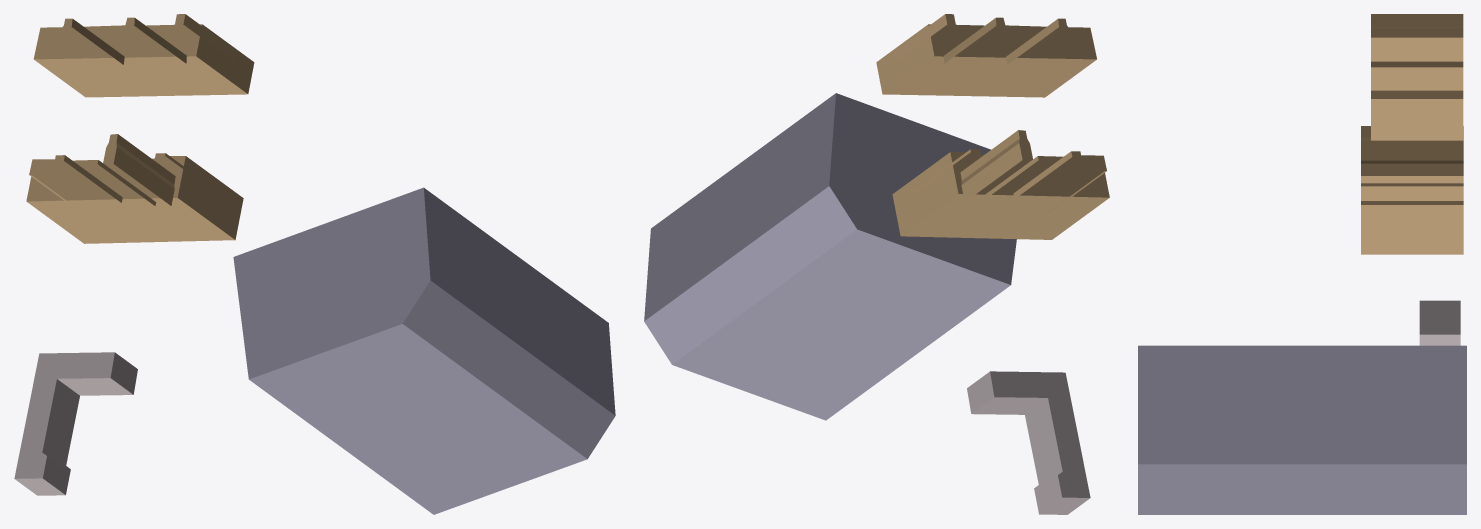
The picture shows the model from 3 angles, left to right: view 1: azimuth 30°, elevation 25°; view 2: azimuth 150°, elevation 25°; view 3: azimuth 270°, elevation 25°; orthographic projection. The views are drawn at different scales.
Visible parts, largest first — view 1: 0_3_1_3_3_2_2; view 2: 0_3_1_3_3_2_2; view 3: 0_3_1_3_3_2_2.
Boxes of the visible parts, x1=… form: 0_3_1_3_3_2_2: x1=14, y1=14, x2=615, y2=514; 0_3_1_3_3_2_2: x1=644, y1=14, x2=1109, y2=514; 0_3_1_3_3_2_2: x1=1138, y1=14, x2=1466, y2=514.
Size of the model in its own units: 126 by 130 by 96.
